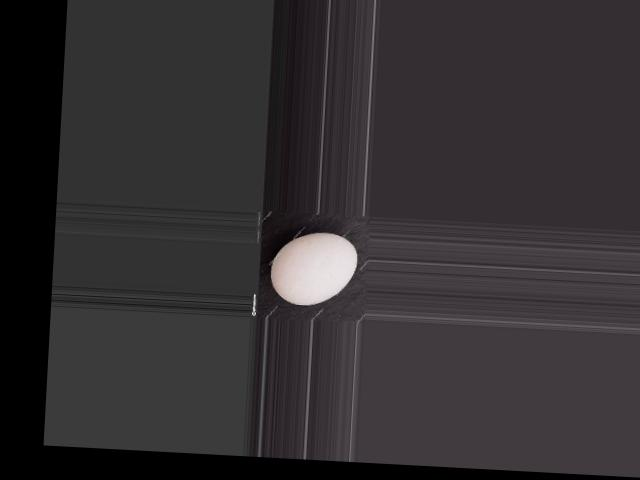egg: (268, 229, 358, 307)
